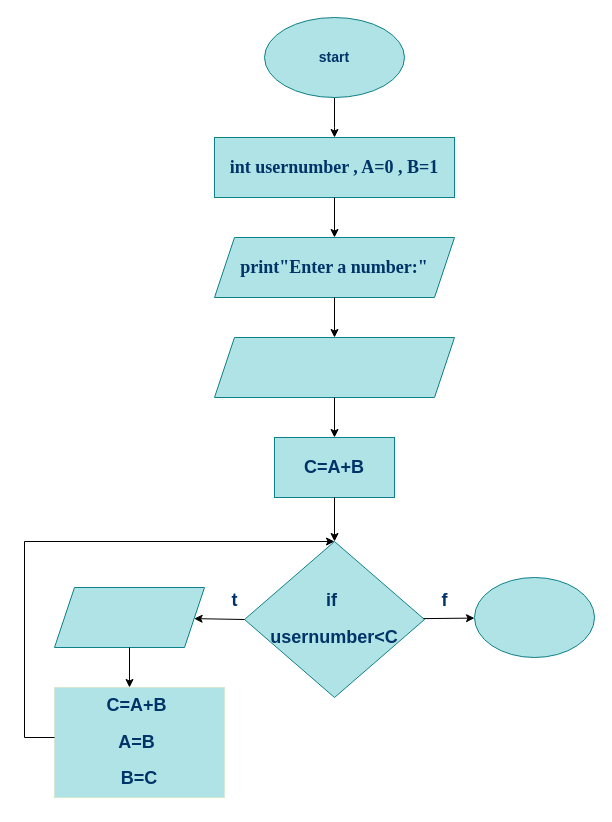
This 612x822 diagram has some shape labels left out. Here are the shapes that lost their labels. From the top down, the centre of each, then its label:
pixel 334 367: get usernumber
pixel 129 617: print C
pixel 534 617: end
